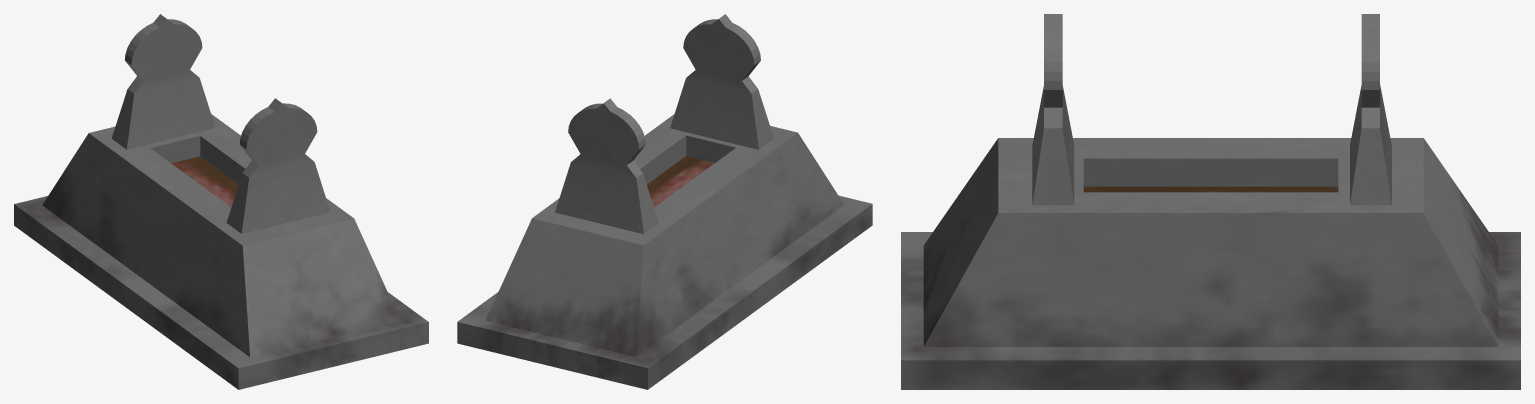
File: Kuburan.fbx
3 renders of one model, left to right at view 1: azimuth 30°, elevation 25°; view 2: azimuth 150°, elevation 25°; view 3: azimuth 270°, elevation 25°, orthographic. The views are drawn at different scales.
Visible parts, largest first — view 1: Tomb; view 2: Tomb; view 3: Tomb.
Part boxes in pixels (x1=…): Tomb: x1=14, y1=14, x2=428, y2=389; Tomb: x1=457, y1=14, x2=872, y2=389; Tomb: x1=901, y1=14, x2=1520, y2=389.
Bounding box in the file's own units: 387 × 438 × 790.
1 material, 1 textured.
